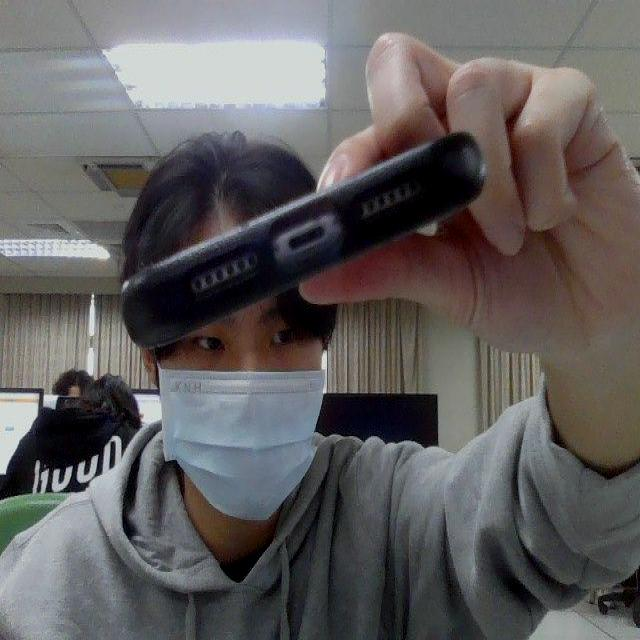ph: (96, 111, 503, 376)
